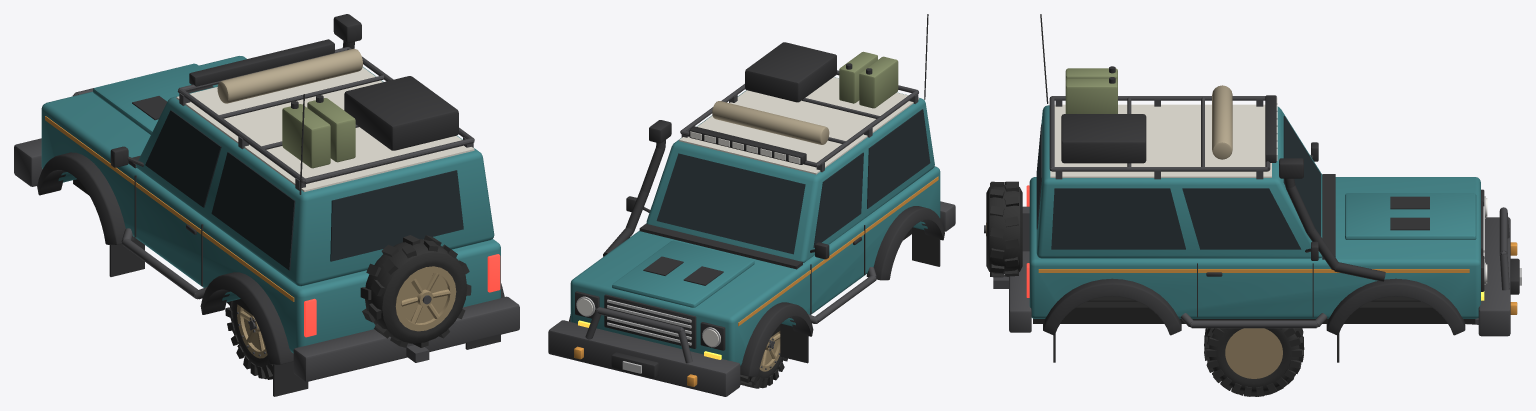
Rendered from Ridgeback.fbx.
3 views of the same model, side by side, from view 1: azimuth 30°, elevation 25°; view 2: azimuth 150°, elevation 25°; view 3: azimuth 270°, elevation 25° (orthographic). The views are drawn at different scales.
Visible parts, largest first — view 1: Body, Wheel; view 2: Body, Wheel; view 3: Body, Wheel.
Part boxes in pixels (bbox=[...]): Body: bbox=[14, 14, 519, 396]; Wheel: bbox=[225, 301, 272, 379]; Body: bbox=[548, 14, 955, 396]; Wheel: bbox=[740, 331, 787, 388]; Body: bbox=[984, 14, 1521, 362]; Wheel: bbox=[1204, 328, 1304, 396].
Size of the model in its own units: 2.2 by 3.29 by 4.74.
